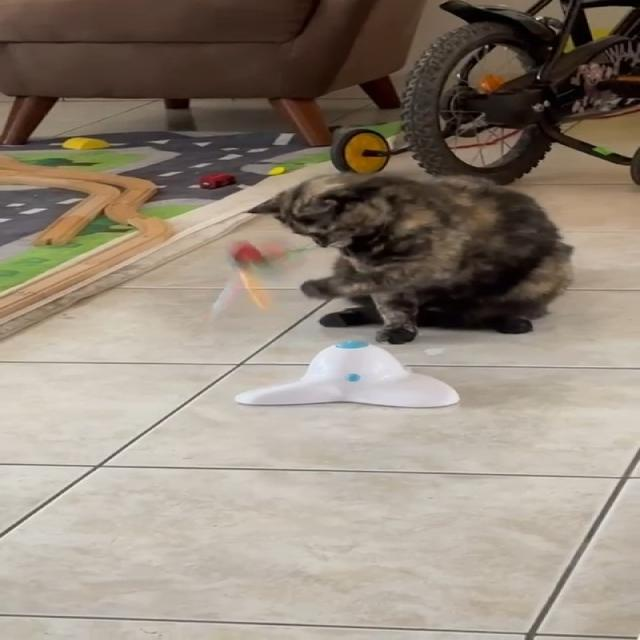authorized: (245, 170, 575, 344)
